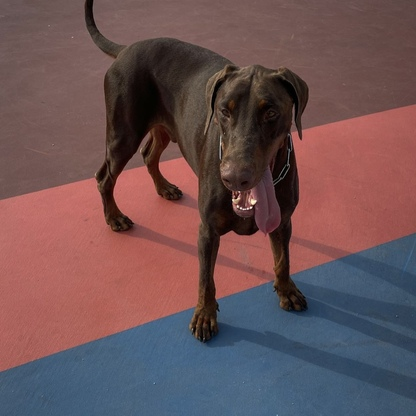doberman: (82, 10, 314, 348)
